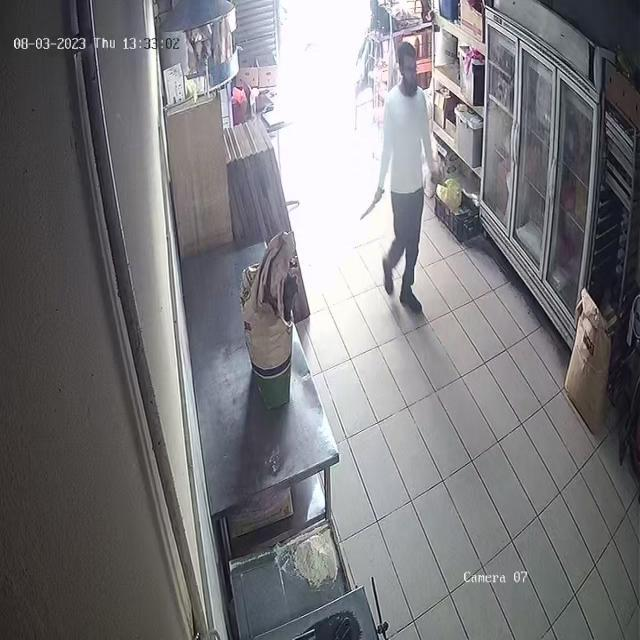Knife: (349, 183, 389, 222)
